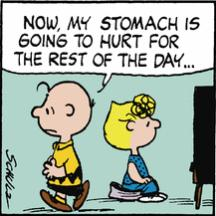charlie: (31, 80, 95, 212)
